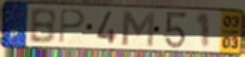1: (194, 11, 211, 51)
4: (95, 10, 119, 47)
5: (163, 11, 189, 50)
B: (28, 7, 58, 45)
M: (121, 9, 157, 48)
P: (58, 8, 87, 45)
